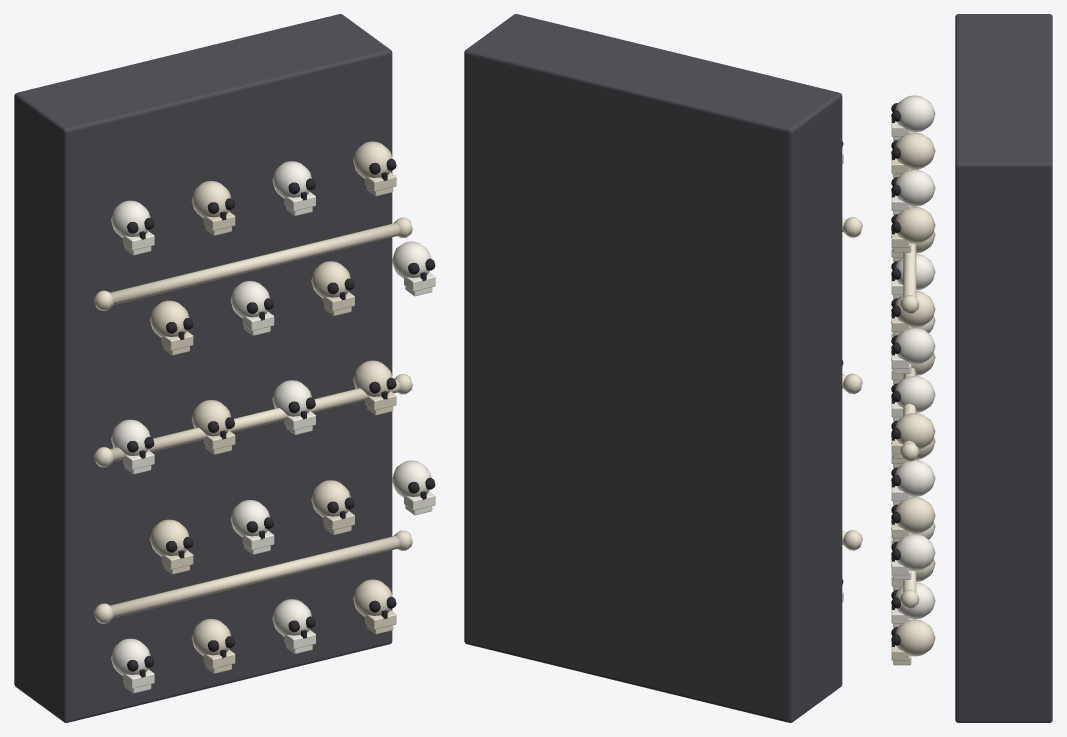
The model's file is crypt_niche_ossuary_wall.glb.
3 views of the same model, side by side, from view 1: azimuth 30°, elevation 25°; view 2: azimuth 150°, elevation 25°; view 3: azimuth 270°, elevation 25° (orthographic). The views are drawn at different scales.
Parts seen in each view (by area): view 1: GD_crypt_niche_ossuary_wall__m0, GD_crypt_niche_ossuary_wall__m3, GD_crypt_niche_ossuary_wall__m1, GD_crypt_niche_ossuary_wall__m2; view 2: GD_crypt_niche_ossuary_wall__m0, GD_crypt_niche_ossuary_wall__m3; view 3: GD_crypt_niche_ossuary_wall__m0, GD_crypt_niche_ossuary_wall__m3, GD_crypt_niche_ossuary_wall__m1, GD_crypt_niche_ossuary_wall__m2.
Part boxes in pixels (x1=…): GD_crypt_niche_ossuary_wall__m0: x1=14, y1=14, x2=392, y2=722; GD_crypt_niche_ossuary_wall__m3: x1=94, y1=141, x2=412, y2=673; GD_crypt_niche_ossuary_wall__m1: x1=111, y1=161, x2=435, y2=693; GD_crypt_niche_ossuary_wall__m2: x1=127, y1=158, x2=435, y2=677; GD_crypt_niche_ossuary_wall__m0: x1=464, y1=14, x2=842, y2=722; GD_crypt_niche_ossuary_wall__m3: x1=842, y1=217, x2=862, y2=550; GD_crypt_niche_ossuary_wall__m0: x1=955, y1=14, x2=1052, y2=722; GD_crypt_niche_ossuary_wall__m3: x1=891, y1=132, x2=935, y2=665; GD_crypt_niche_ossuary_wall__m1: x1=891, y1=95, x2=935, y2=627; GD_crypt_niche_ossuary_wall__m2: x1=891, y1=103, x2=900, y2=646.
Size of the model in its own units: 1.15 by 1.9 by 0.4971.
